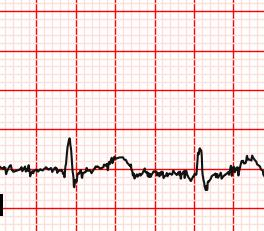ST Depression: (185, 170, 216, 195)
